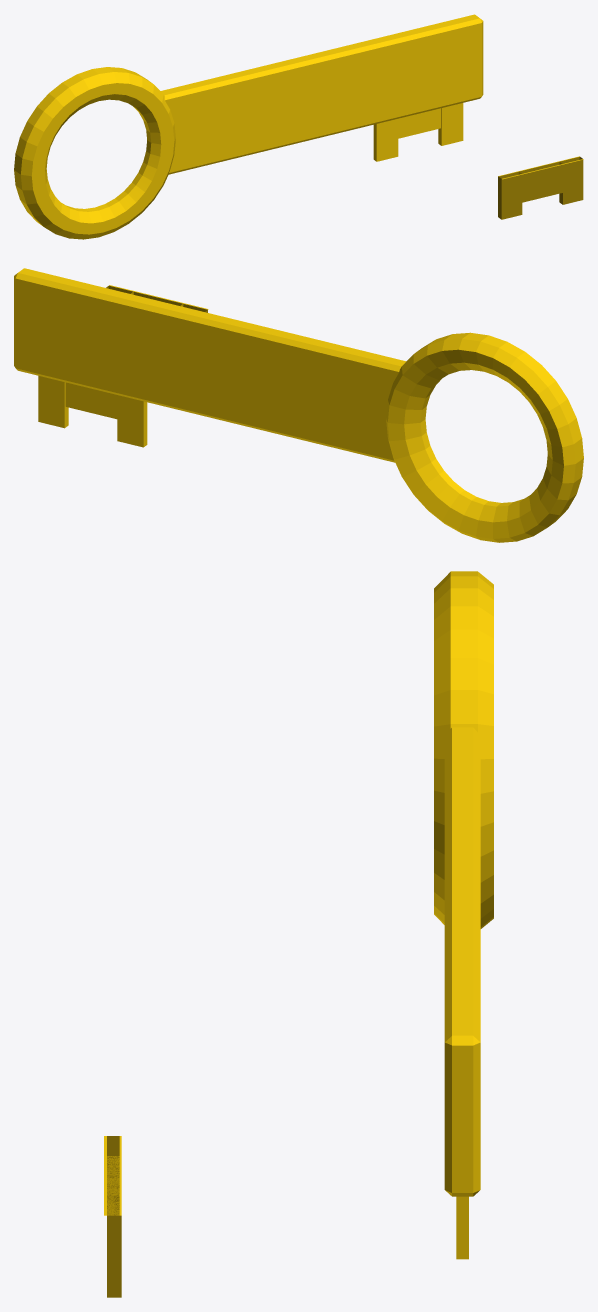
File: Chave Nova.fbx
3 views of the same model, one above another, from view 1: azimuth 30°, elevation 25°; view 2: azimuth 150°, elevation 25°; view 3: azimuth 270°, elevation 25° (orthographic). The views are drawn at different scales.
Visible parts, largest first — view 1: Circle.001, Circle, Circle.002; view 2: Circle.001, Circle.002, Circle; view 3: Circle.001, Circle.
Part boxes in pixels (x1,y1,x2,y2): Circle.001: (14,14,483,239); Circle: (498,156,583,219); Circle.002: (373,103,463,161); Circle.001: (14,268,583,542); Circle.002: (38,376,147,447); Circle: (106,285,208,312); Circle.001: (434,571,493,1196); Circle: (104,1136,121,1297).
Size of the model in its own units: 78.21 by 25.62 by 27.71.
